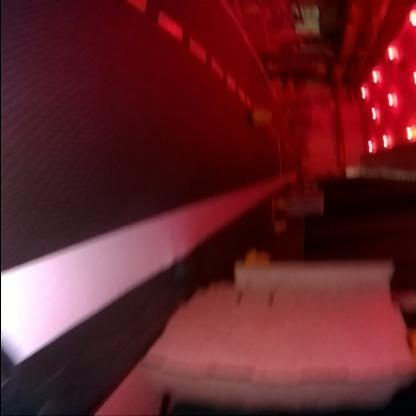Duckie: (244, 246, 270, 262), (251, 108, 273, 126), (274, 219, 288, 233)
